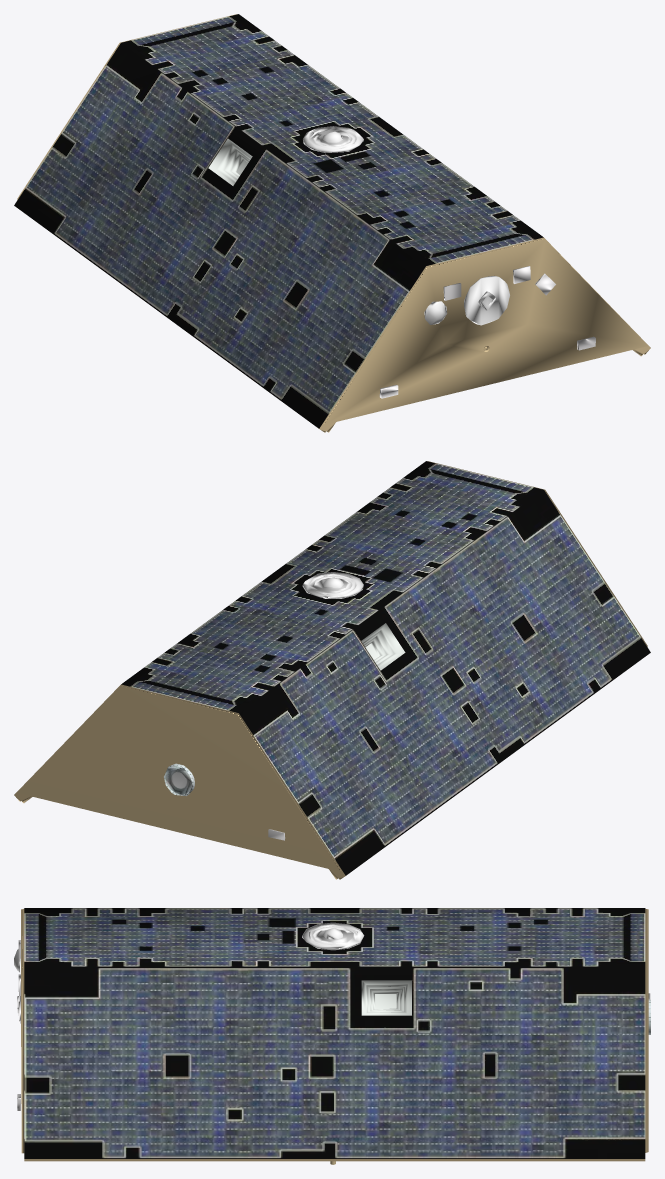
File: grace.glb
The picture shows the model from 3 angles, top to bottom: view 1: azimuth 30°, elevation 25°; view 2: azimuth 150°, elevation 25°; view 3: azimuth 270°, elevation 25°; orthographic projection.
Visible parts, largest first — view 1: Mesh .006, Mesh, Mesh .004; view 2: Mesh .006, Mesh; view 3: Mesh .006, Mesh.
Boxes of the visible parts, x1,y1,x2,y2 form: Mesh .006: [14, 14, 543, 428]; Mesh: [17, 14, 650, 432]; Mesh .004: [379, 266, 595, 398]; Mesh .006: [121, 461, 650, 875]; Mesh: [14, 461, 647, 879]; Mesh .006: [24, 908, 650, 1158]; Mesh: [14, 908, 648, 1161].
Bounding box in the file's own units: 4.81 × 3.19 × 7.86.
5 materials, 5 textured.
